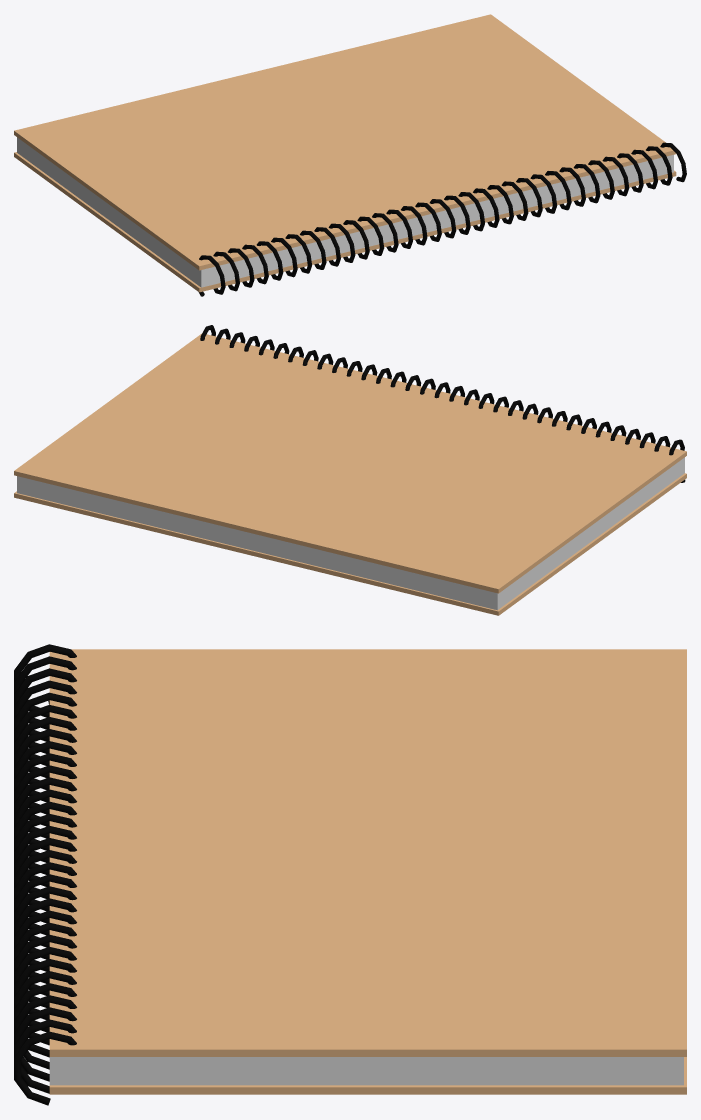
Rendered from Book-open.fbx.
3 renders of one model, top to bottom at view 1: azimuth 30°, elevation 25°; view 2: azimuth 150°, elevation 25°; view 3: azimuth 270°, elevation 25°, orthographic. The views are drawn at different scales.
Visible parts, largest first — view 1: Cube.002; view 2: Cube.002; view 3: Cube.002.
Part boxes in pixels (bbox=[...]): Cube.002: bbox=[14, 14, 686, 296]; Cube.002: bbox=[14, 325, 686, 615]; Cube.002: bbox=[14, 644, 686, 1105].
Size of the model in its own units: 301 by 23.6 by 212.
